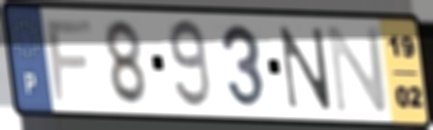3: (216, 21, 270, 112)
8: (102, 17, 149, 108)
9: (168, 16, 215, 113)
F: (44, 18, 95, 104)
N: (324, 24, 392, 115), (277, 24, 334, 113)
